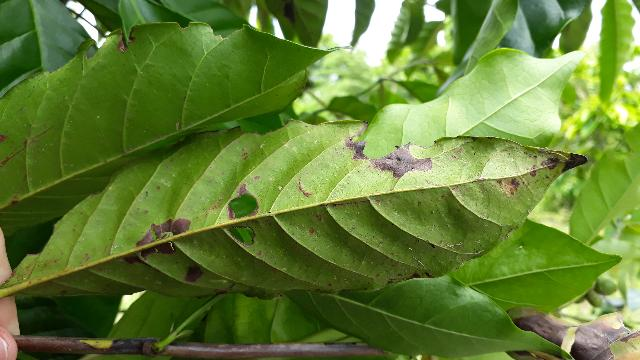red_spider_mite: (5, 118, 588, 302)
